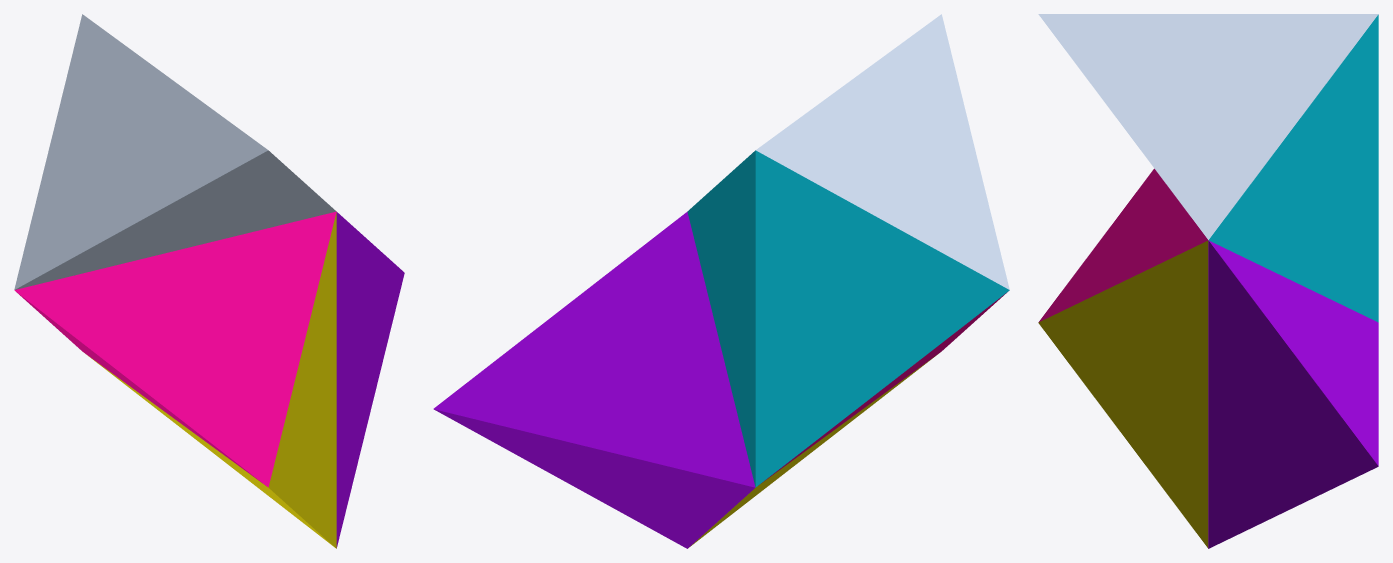
Rendered from TetragonalDisphenoidal_13.glb.
3 renders of one model, left to right at view 1: azimuth 30°, elevation 25°; view 2: azimuth 150°, elevation 25°; view 3: azimuth 270°, elevation 25°, orthographic. The views are drawn at different scales.
Bounding box in the file's own units: 6 × 6 × 4.
